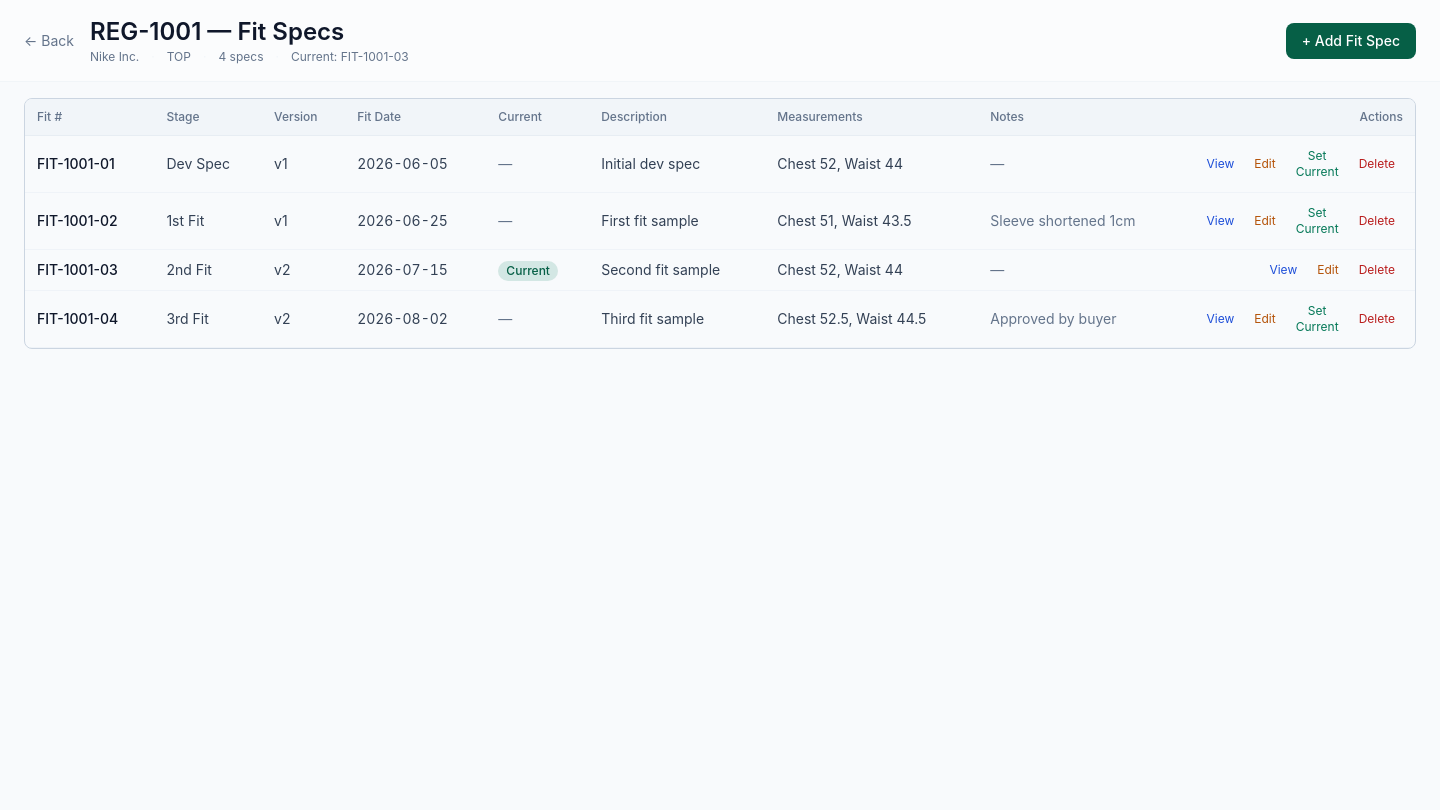
DesignFitSpecsPage › adds a new fit spec via the form modal
The image size is (1440, 810).
Expected: the text "FIT-1001-01" is shown, [25,136,154,193]
Click the button "+ Add Fit Spec" at [1351, 41], box [1286,23,1416,59]
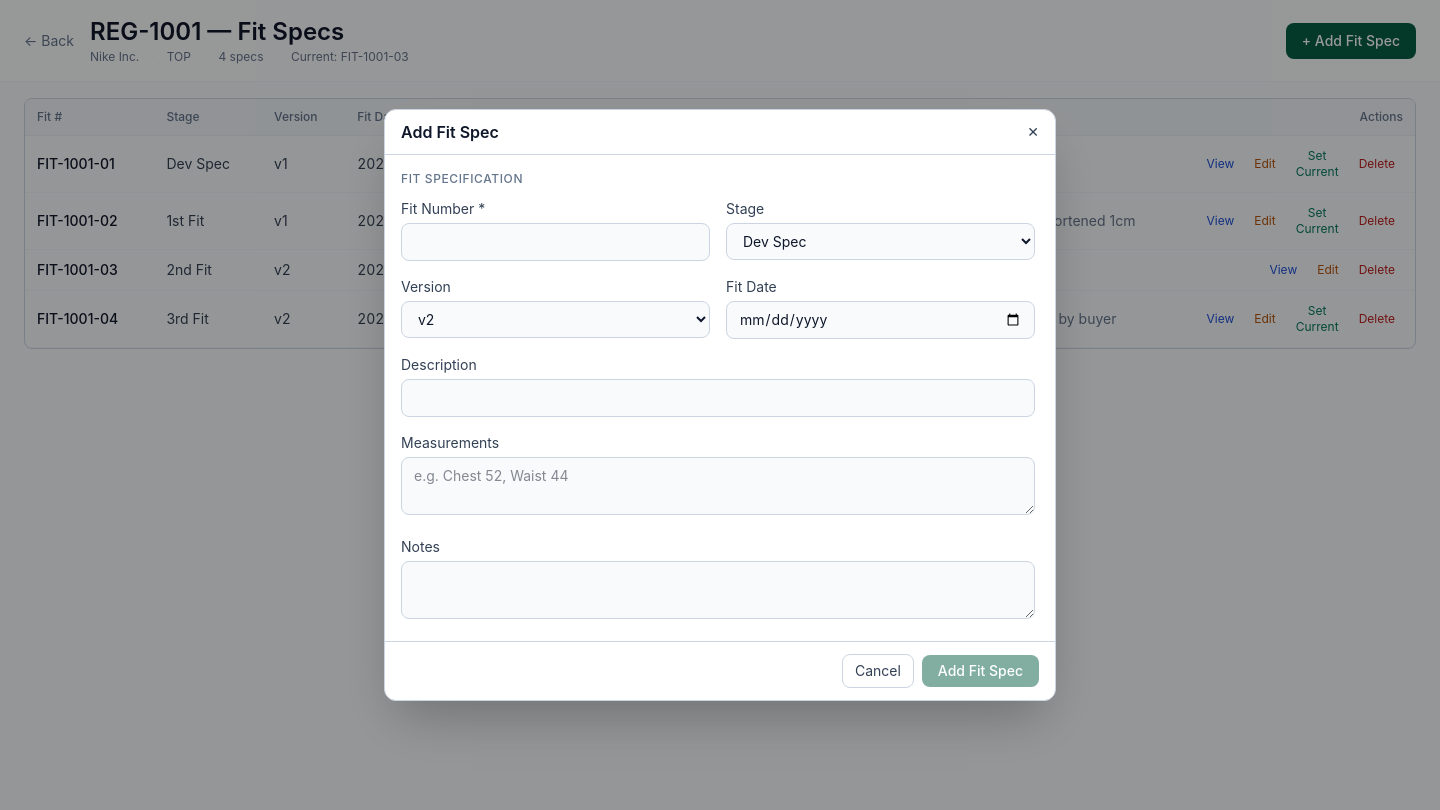
Type "FIT-1001-99" into the field labelled "Fit Number *" at [556, 242], box [401,223,710,261]
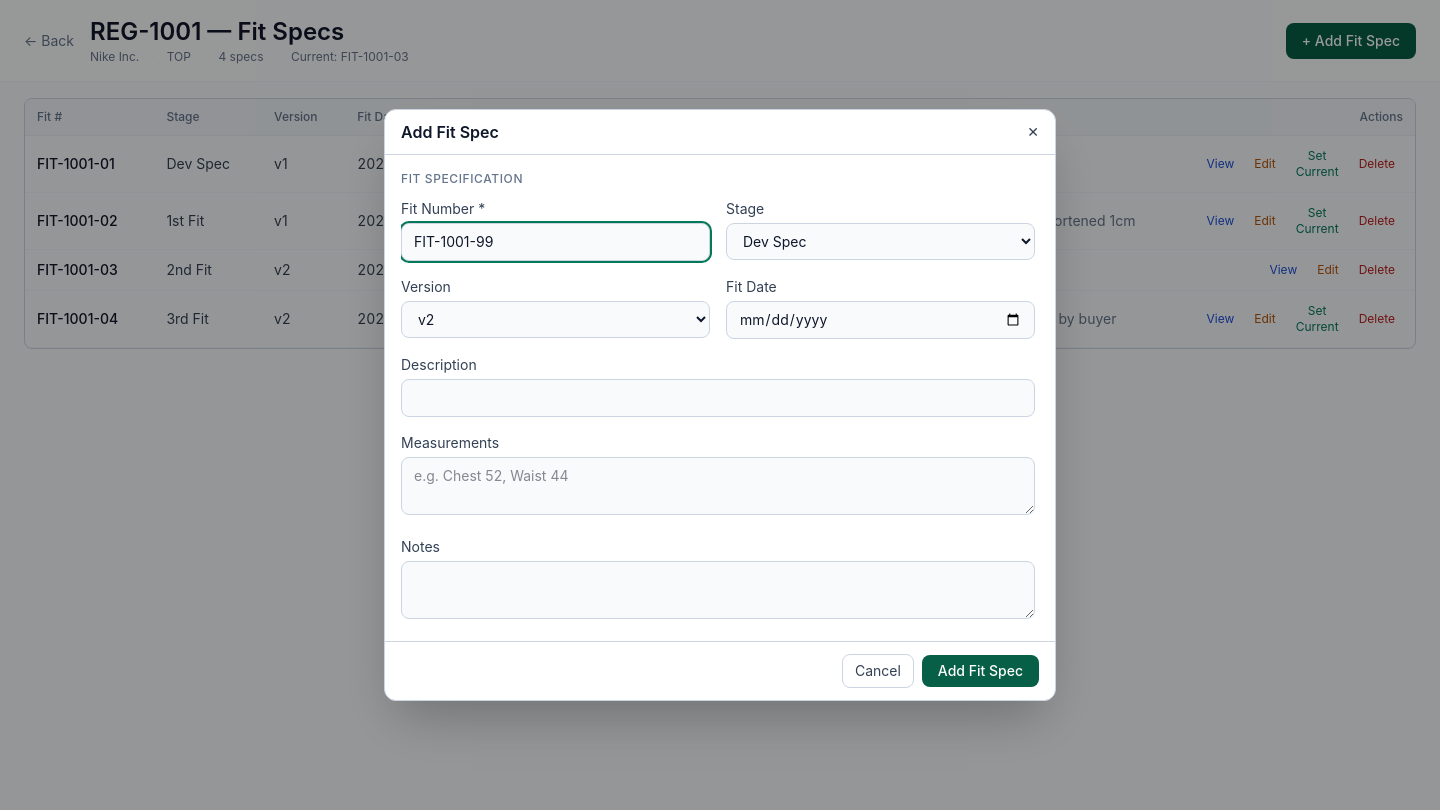
Select "Pre-Production" in the dropdown labelled "Stage" at [880, 242], box [726,223,1035,260]
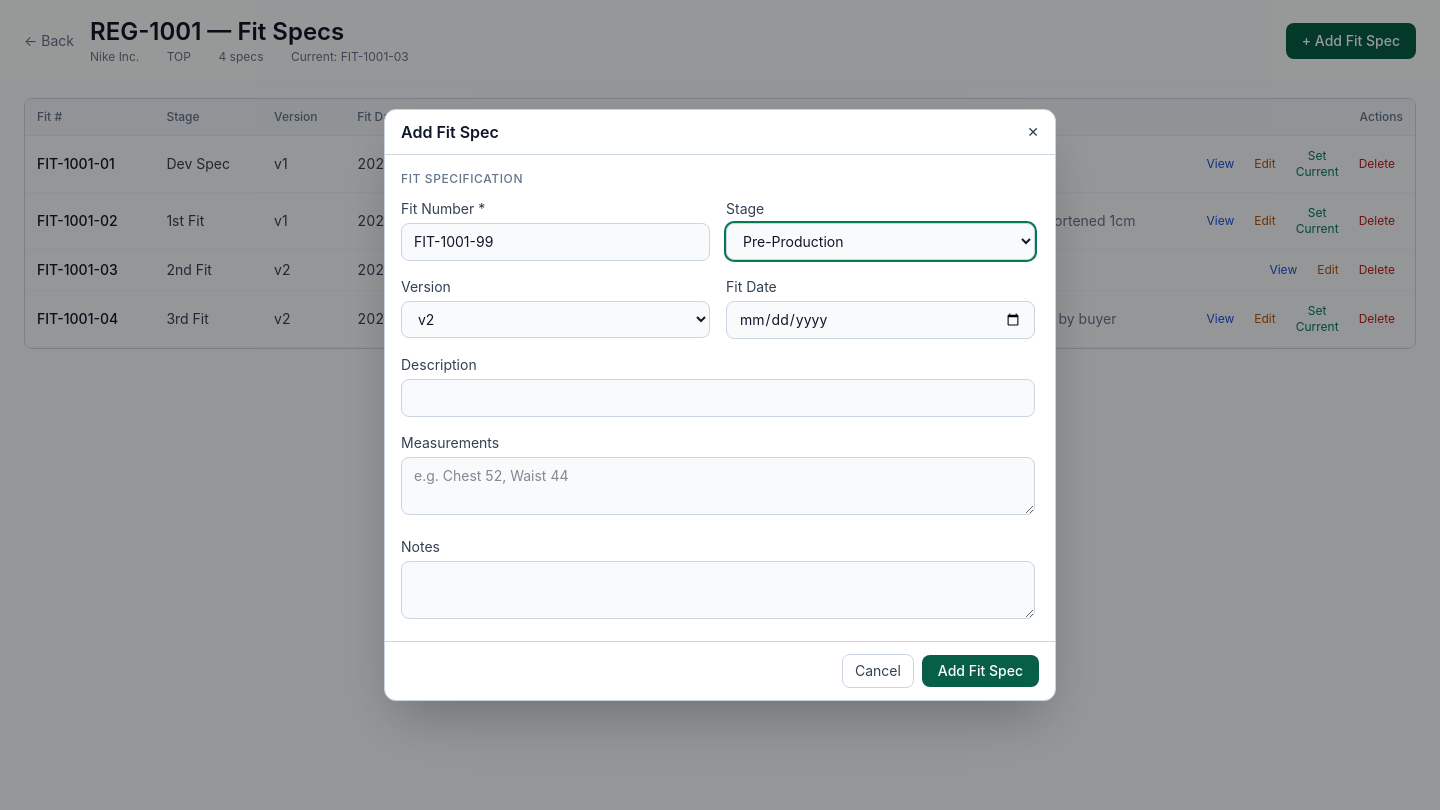
Type "Pre-production spec" into the field labelled "Description" at [718, 398], box [401,379,1035,417]
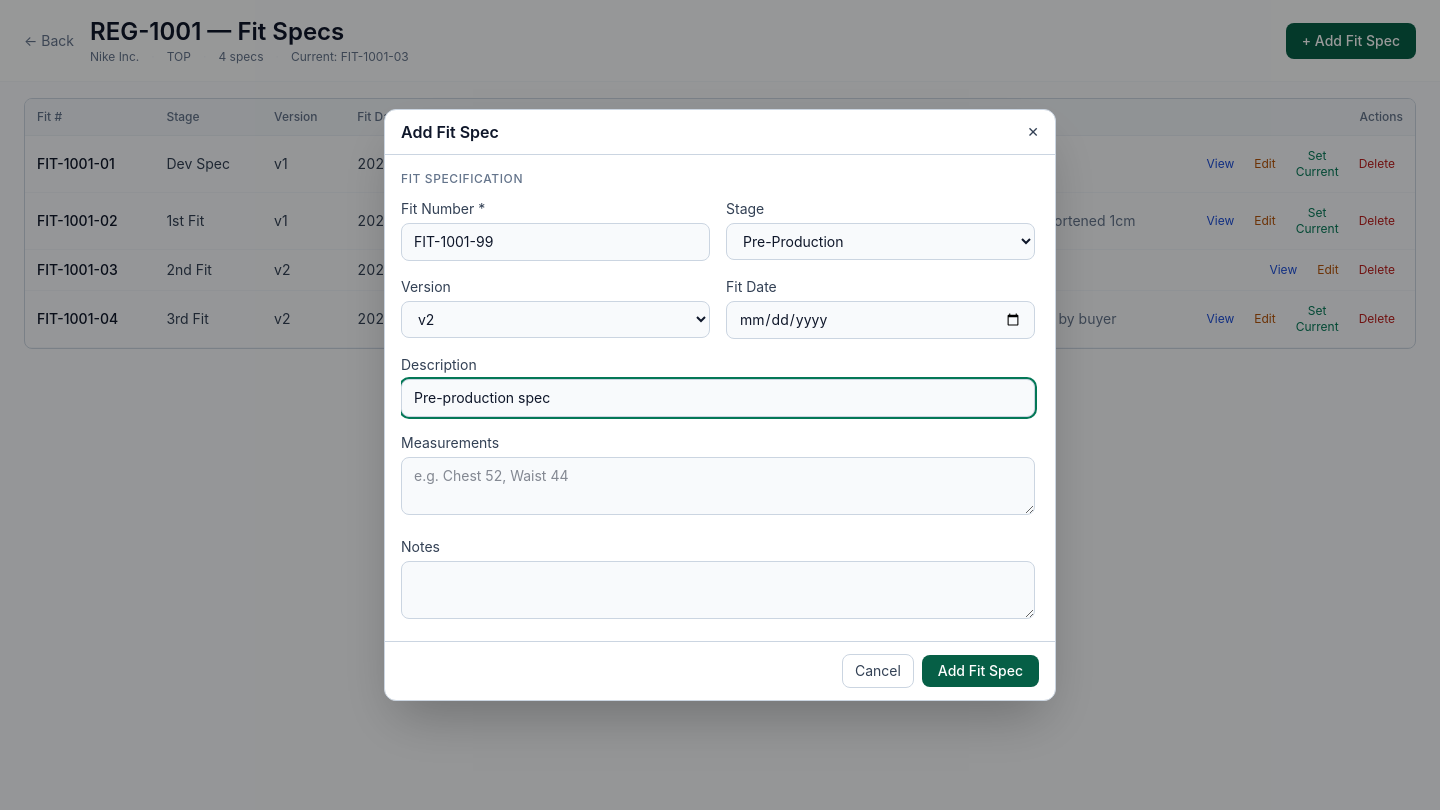
Type "Chest 52, Waist 44" into the text box labelled "Measurements" at [718, 486], box [401,457,1035,515]
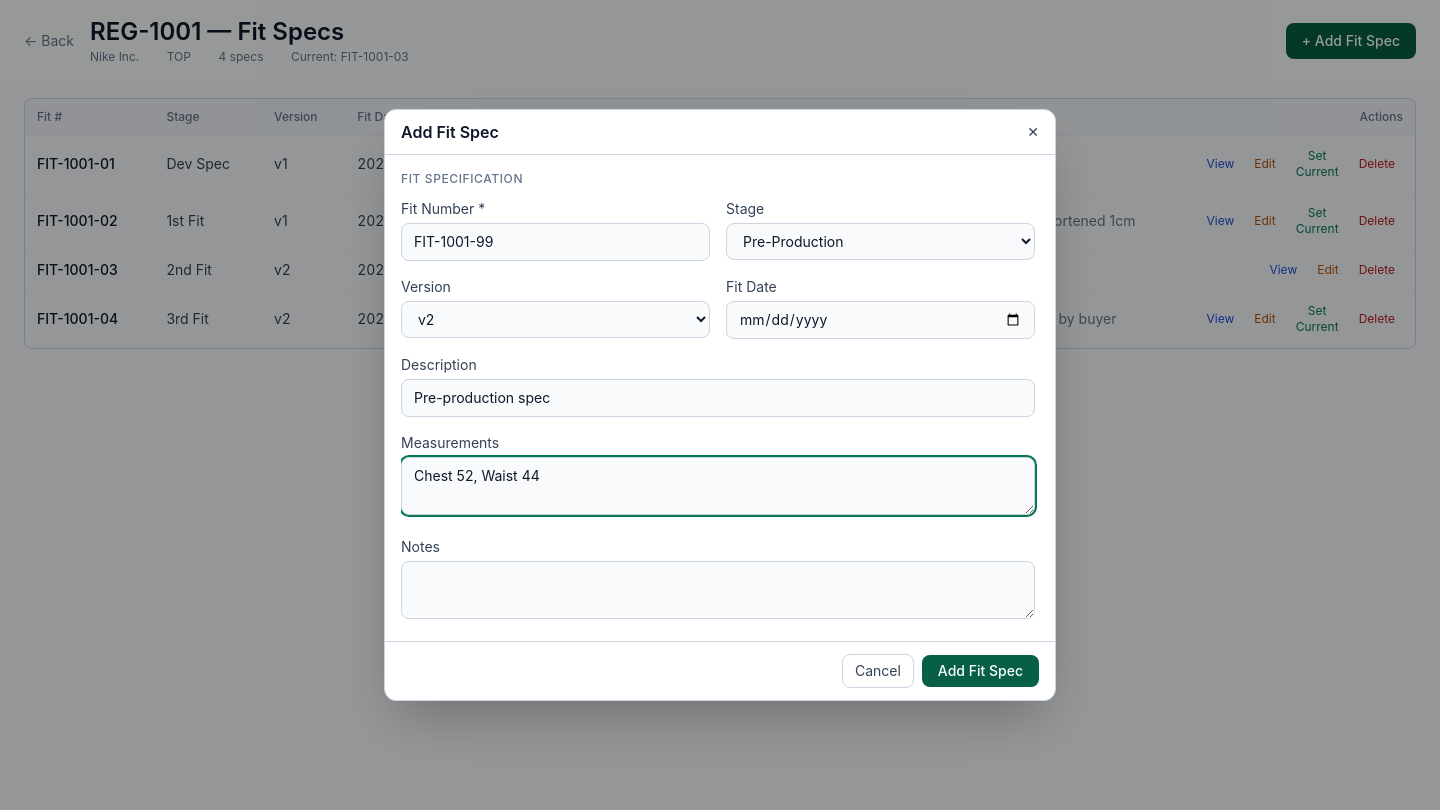
Click the button "Add Fit Spec" at [980, 671], box [922,655,1039,687]
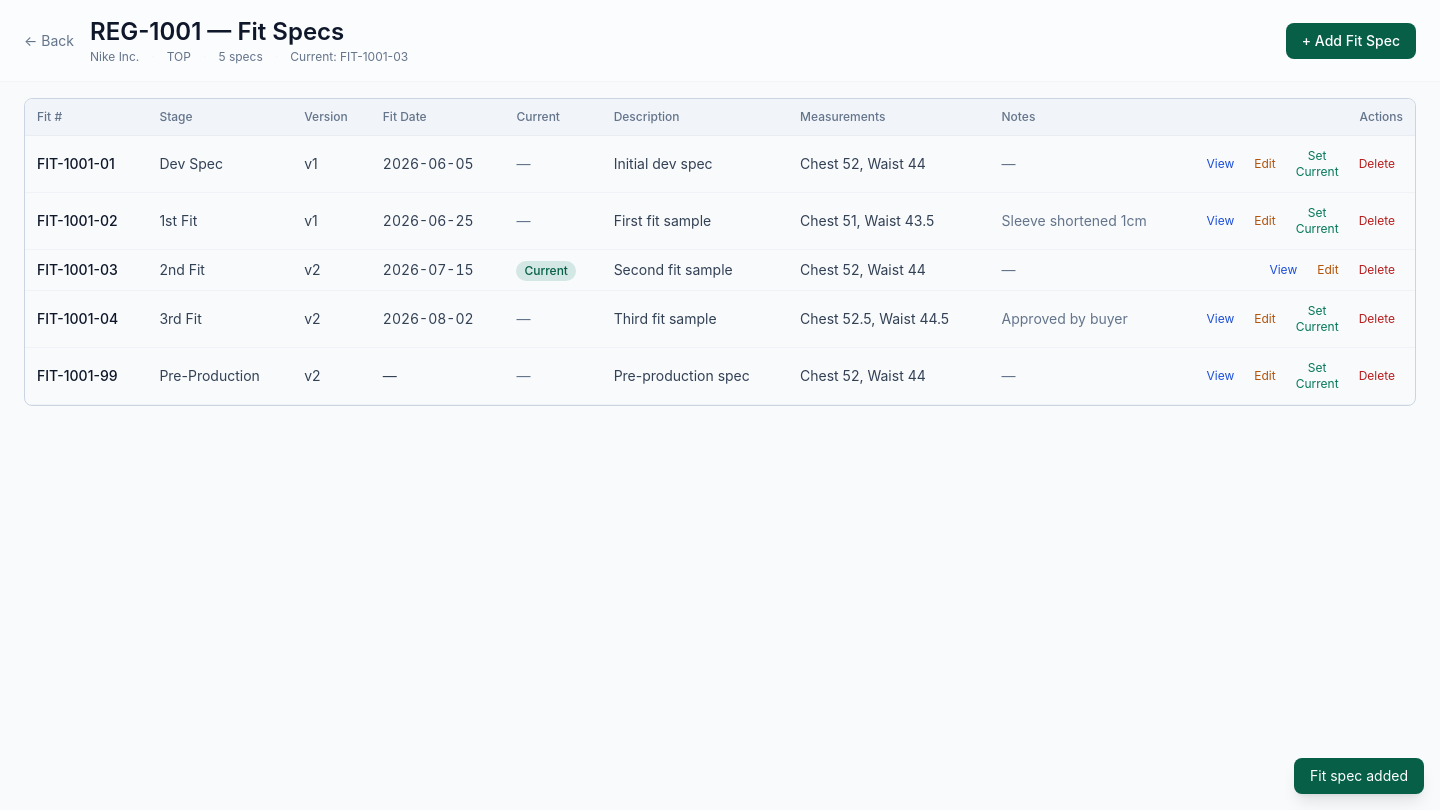
Result: the text "FIT-1001-99" is shown at [25,348,147,405]
Result: the text "Pre-production spec" is shown at [602,348,788,405]
